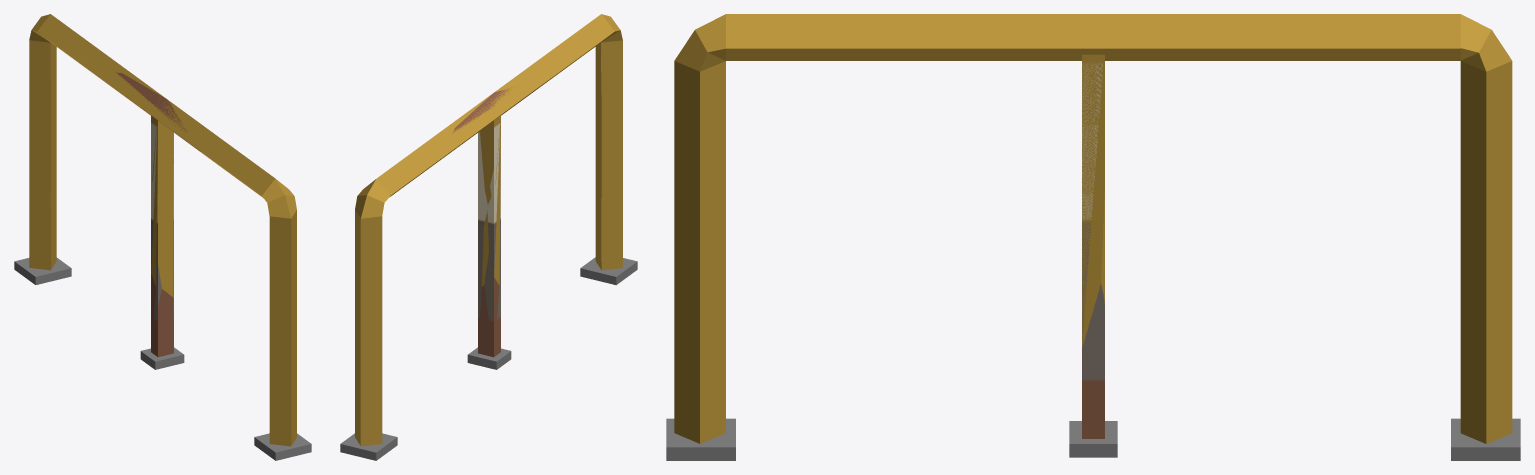
File: model_stairs_railing_02.fbx
3 views of the same model, side by side, from view 1: azimuth 30°, elevation 25°; view 2: azimuth 150°, elevation 25°; view 3: azimuth 270°, elevation 25° (orthographic). The views are drawn at different scales.
Visible parts, largest first — view 1: model_stairs_railing_02, model_stairs_railing_02_col; view 2: model_stairs_railing_02, model_stairs_railing_02_col; view 3: model_stairs_railing_02, model_stairs_railing_02_col.
Part boxes in pixels (x1,y1,x2,y2): model_stairs_railing_02: [14, 14, 311, 460]; model_stairs_railing_02_col: [29, 14, 296, 445]; model_stairs_railing_02: [340, 14, 637, 460]; model_stairs_railing_02_col: [355, 15, 622, 445]; model_stairs_railing_02: [666, 14, 1520, 460]; model_stairs_railing_02_col: [674, 14, 1512, 443].
Size of the model in its own units: 15.88 by 112 by 200.
1 material, 1 textured.
